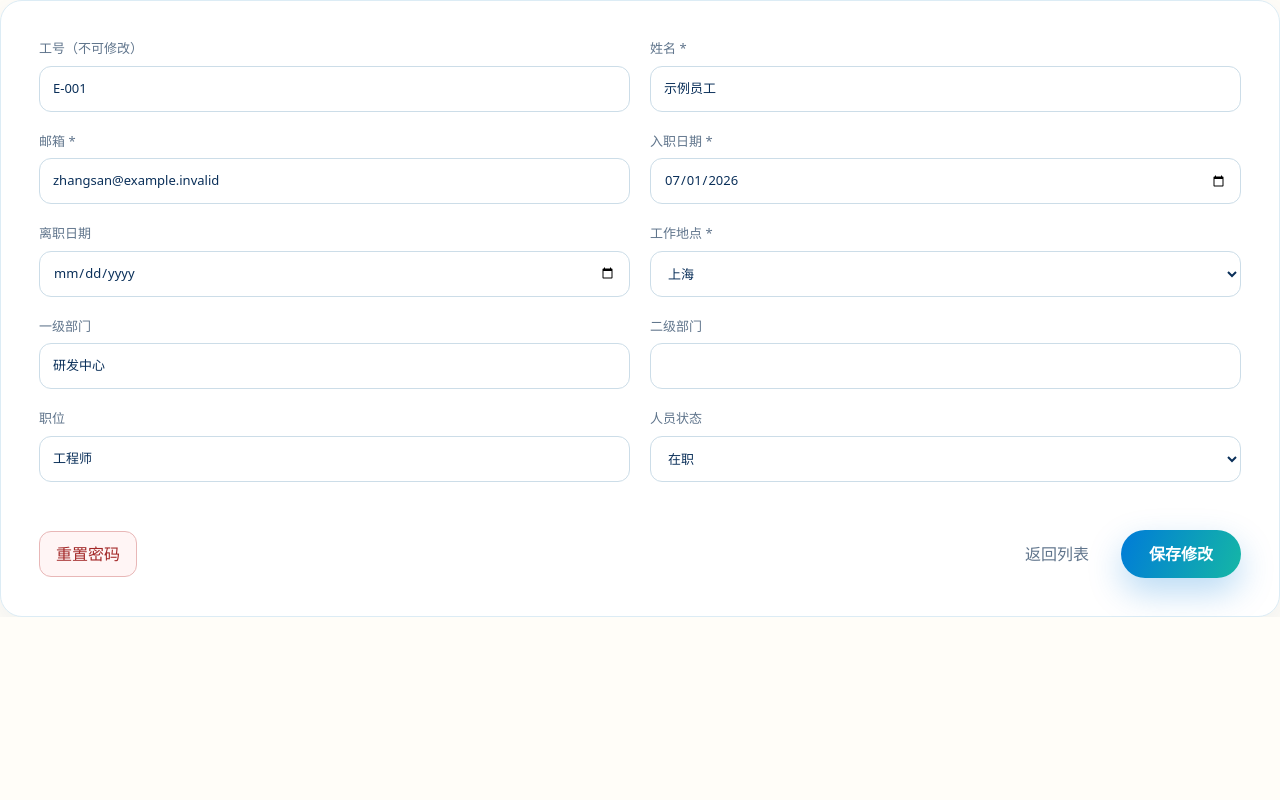
Scenario: employee password reset UI › does not present the legacy fixed password from the employee edit form
Expected: the field showing "示例员工" is shown, [650,66,1241,112]
Click the button "重置密码" at coordinates (88, 554), box [39,530,137,576]
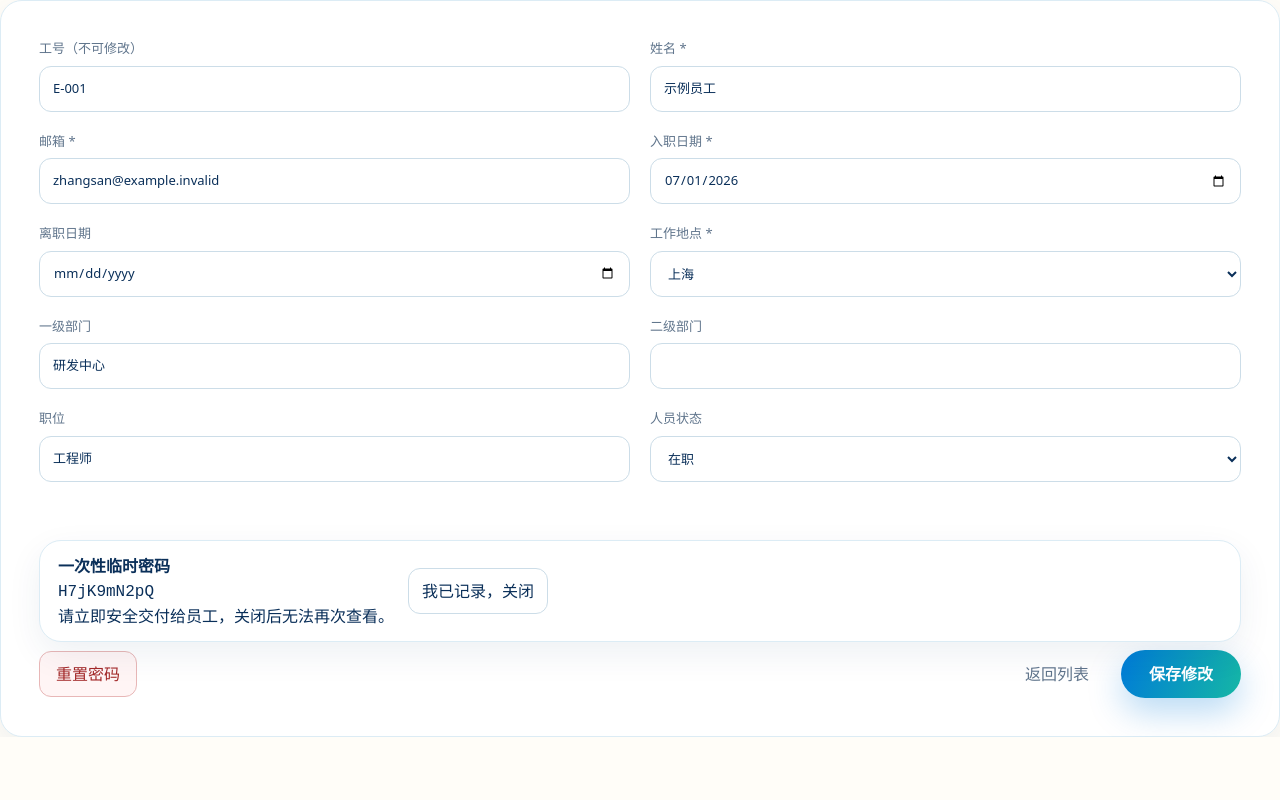
Expected: the text "H7jK9mN2pQ" is shown, [58,582,154,600]
Click the button "我已记录，关闭" at coordinates (478, 590), box [408,568,548,614]
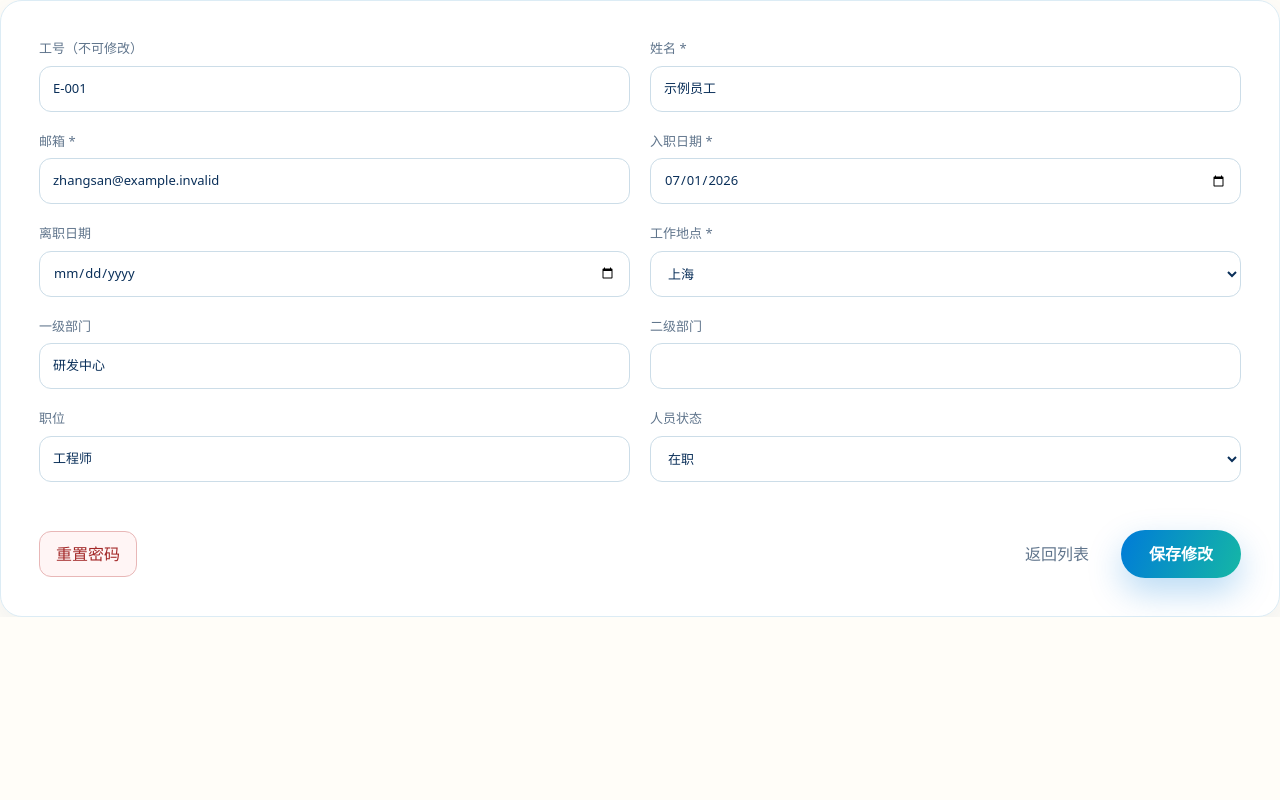
Expected: the text "H7jK9mN2pQ" is gone
